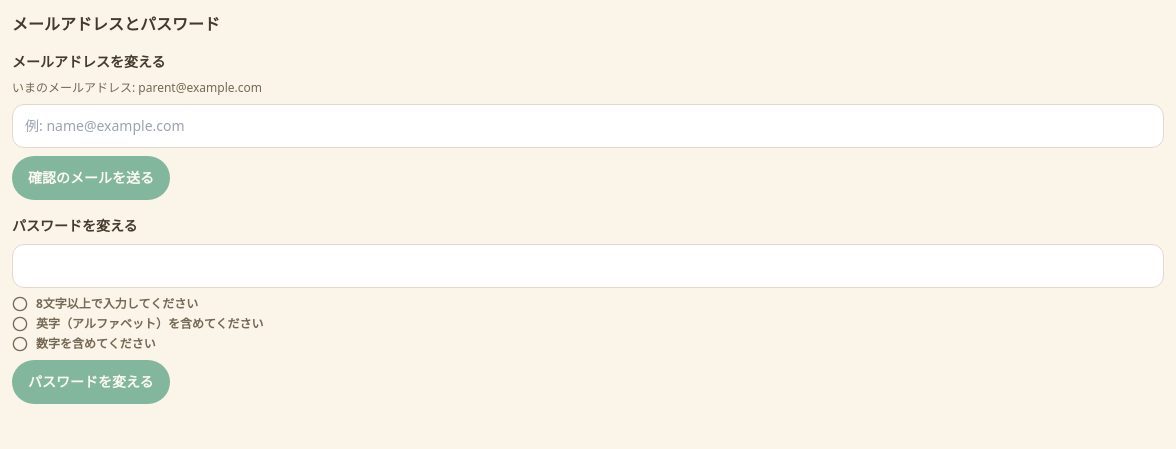
it: AccountCredentialsSettings(メール・パスワード。UIUX改装 項目46) › メールの形の確かめと例示は、登録の画面と同じ
This screenshot has width=1176, height=449.
In the field labelled "メールアドレスを変える": (588, 126) left=12, top=104, right=1164, bottom=148, type "abc"
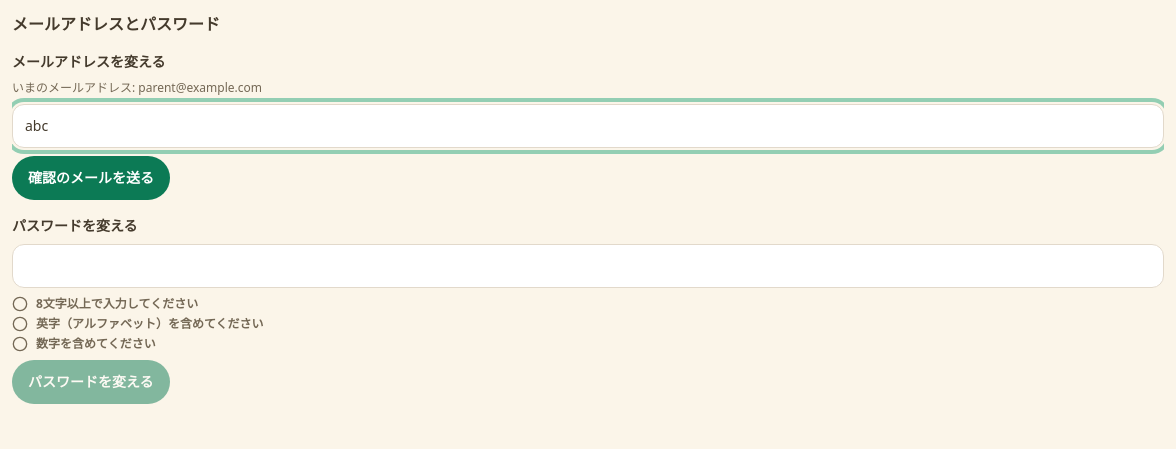
Click the button "確認のメールを送る": click(91, 178) left=12, top=156, right=170, bottom=200
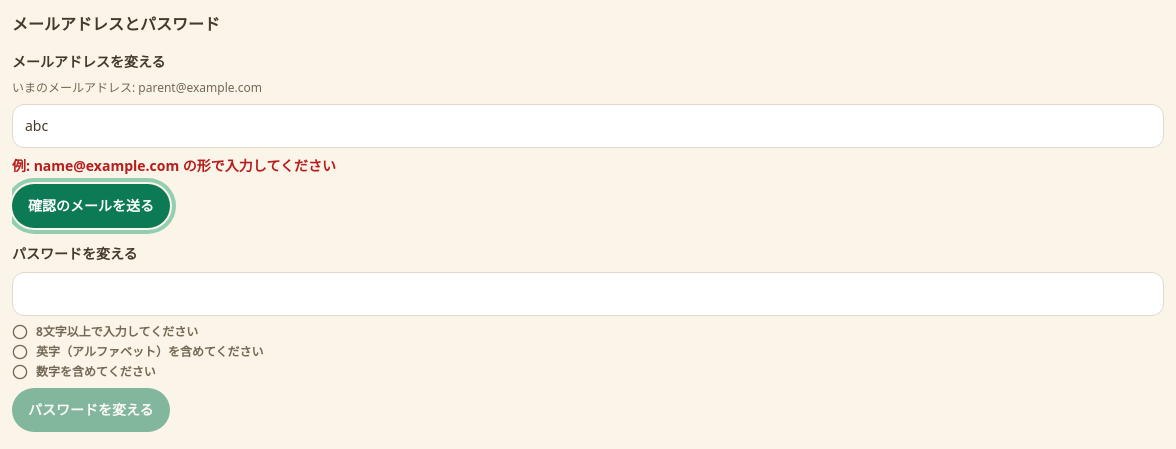
Check: the message reads "例: name@example.com の形で入力してください", box left=12, top=156, right=336, bottom=175
